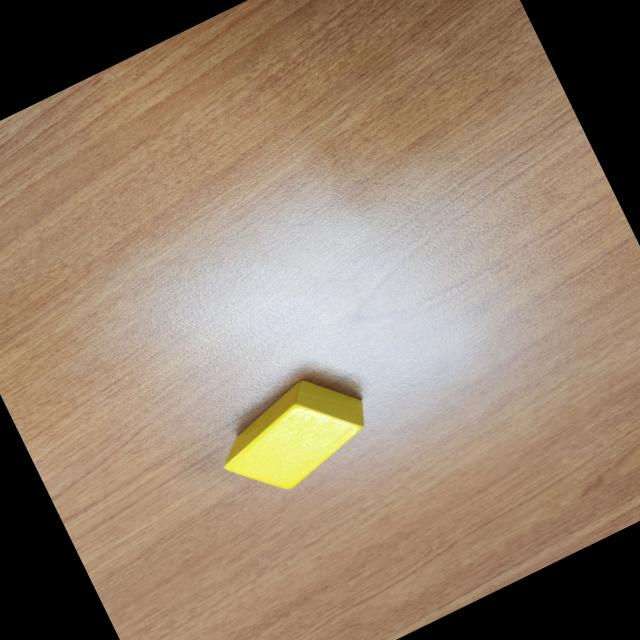yellow: (202, 358, 384, 512)
